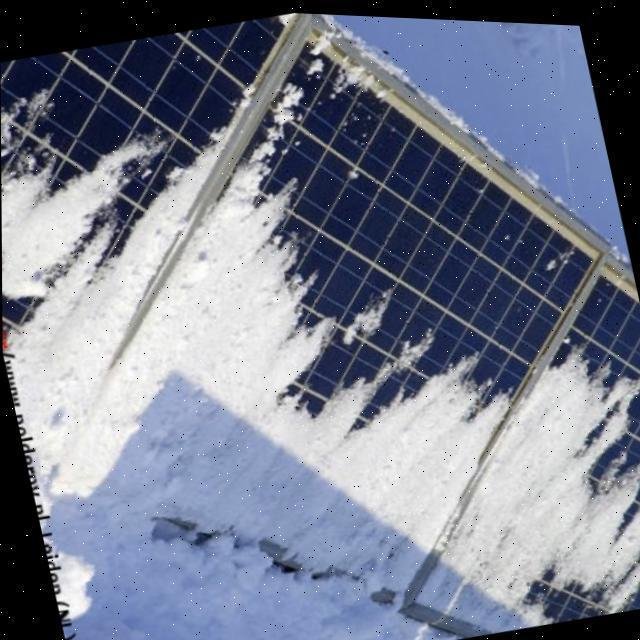Anomaly Solar Panel: (44, 14, 605, 640), (0, 10, 296, 542), (399, 256, 640, 640)
Snow: (0, 74, 640, 640)
